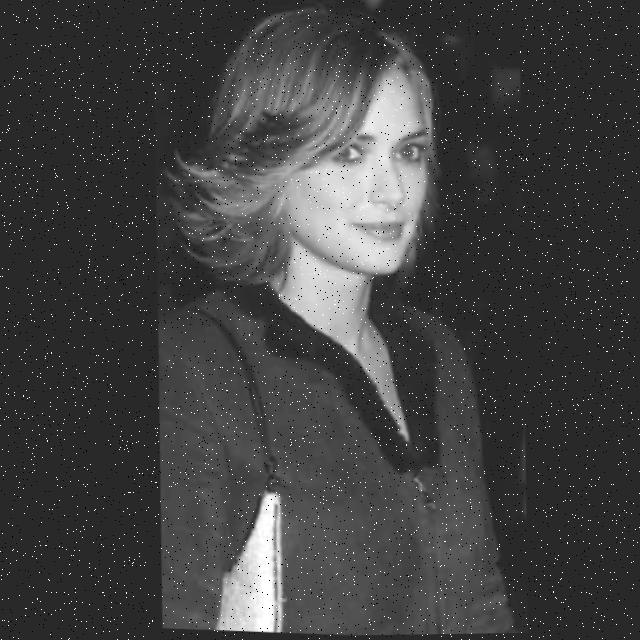face: (236, 26, 440, 289)
